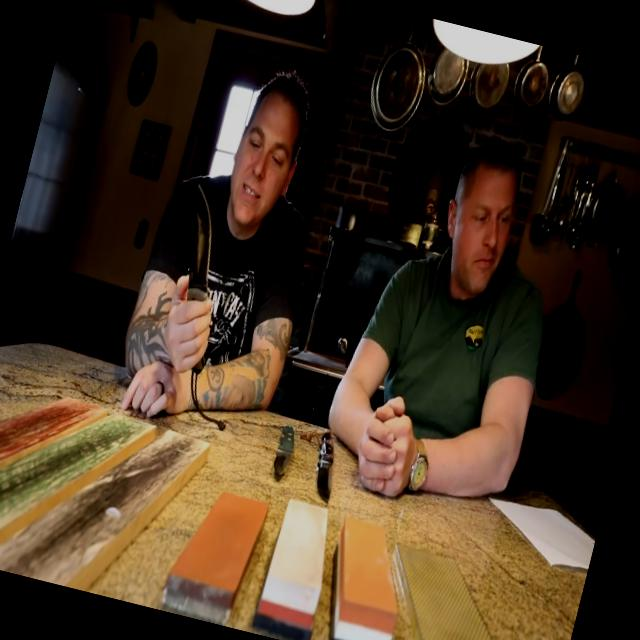knife: (154, 166, 252, 354)
